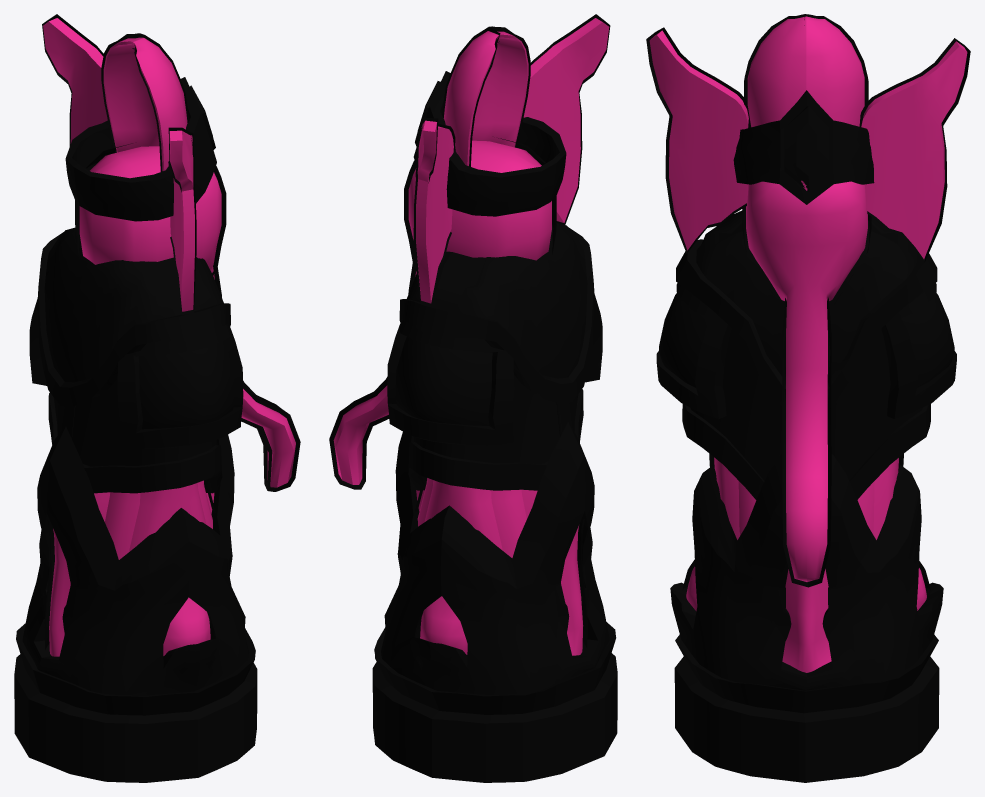
Rendered from Knight_Outlined01.fbx.
The picture shows the model from 3 angles, left to right: view 1: azimuth 30°, elevation 25°; view 2: azimuth 150°, elevation 25°; view 3: azimuth 270°, elevation 25°; orthographic projection. The views are drawn at different scales.
Parts seen in each view (by area): view 1: OutlineBaseK, OutlineCrestK, OutlineDecor, Cube.212, OutlineArmour, OutlineCrownK, Cube.217, Cube.222, Cube.223, OutlineHeadK, OutlineEars, OutlineHat (+1 smaller); view 2: OutlineBaseK, OutlineCrestK, OutlineDecor, Cube.222, OutlineArmour, Cube.212, Cube.217, Cube.223, OutlineCrownK, OutlineHeadK, OutlineEars, OutlineHat (+1 smaller); view 3: OutlineBaseK, Cube.222, Cube.212, OutlineCrestK, OutlineArmour, OutlineDecor, Cube.223, OutlineCrownK, Cube.217, OutlineEars, OutlineHeadK, OutlineHat.
Boxes of the visible parts, box(x1,y1,x2,y2) form: OutlineBaseK: box(14, 426, 257, 782); OutlineCrestK: box(37, 227, 230, 406); OutlineDecor: box(29, 299, 243, 448); Cube.212: box(79, 146, 295, 487); OutlineArmour: box(48, 378, 222, 493); OutlineCrownK: box(65, 77, 216, 221); Cube.217: box(49, 480, 214, 656); Cube.222: box(43, 18, 194, 311); Cube.223: box(103, 37, 187, 170); OutlineHeadK: box(75, 143, 300, 491); OutlineEars: box(42, 14, 196, 314); OutlineHat: box(101, 33, 188, 171); OutlineBaseK: box(372, 422, 617, 782); OutlineCrestK: box(399, 223, 594, 403); OutlineDecor: box(387, 293, 602, 445); Cube.222: box(416, 18, 609, 303); OutlineArmour: box(408, 375, 583, 490); Cube.212: box(333, 140, 551, 484); Cube.217: box(416, 478, 583, 655); Cube.223: box(443, 31, 528, 165); OutlineCrownK: box(413, 71, 566, 216); OutlineHeadK: box(329, 138, 556, 489); OutlineEars: box(413, 14, 610, 306); OutlineHat: box(442, 26, 530, 166); OutlineBaseK: box(670, 454, 943, 782); Cube.222: box(649, 30, 967, 258); Cube.212: box(746, 181, 867, 581); OutlineCrestK: box(676, 210, 937, 406); OutlineArmour: box(682, 329, 930, 499); OutlineDecor: box(656, 283, 956, 418); Cube.223: box(747, 16, 864, 127); OutlineCrownK: box(733, 90, 874, 204); Cube.217: box(686, 457, 926, 672); OutlineEars: box(646, 27, 970, 262); OutlineHeadK: box(742, 207, 871, 587); OutlineHat: box(744, 14, 868, 105).
Bounding box in the file's own units: 135 × 338 × 138.
